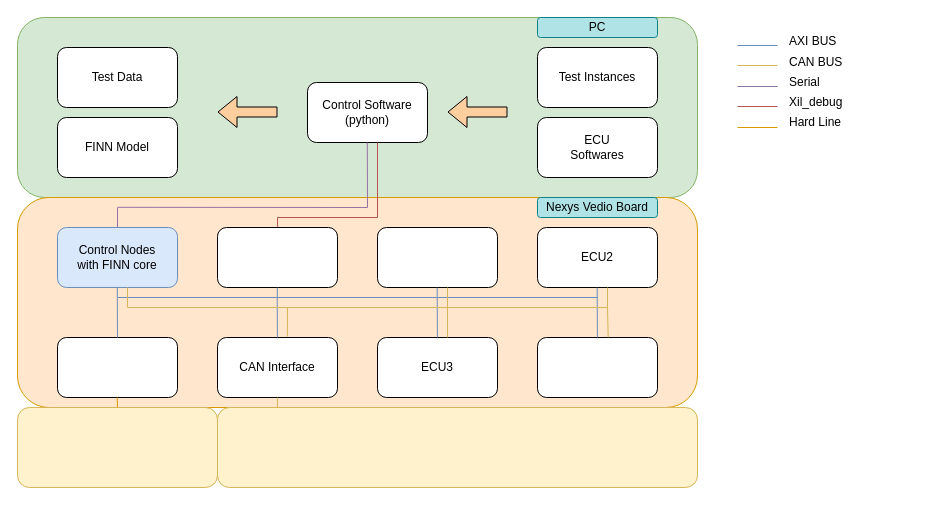
The diagram is 935 pixels wide and 505 high, and some of its shapes have lost their labels. The box of each missing label's shape, as (x1, y1, x2, y2) in pixels:
Config/Debug Node: (216, 226, 338, 288)
ECU1: (376, 226, 498, 288)
ECU4: (536, 336, 658, 398)
IO Driver for 4 ECU: (56, 336, 178, 398)
Other physical CAN Devices or HWIL Instances: (216, 406, 698, 488)
Physical Devices: (16, 406, 218, 488)
